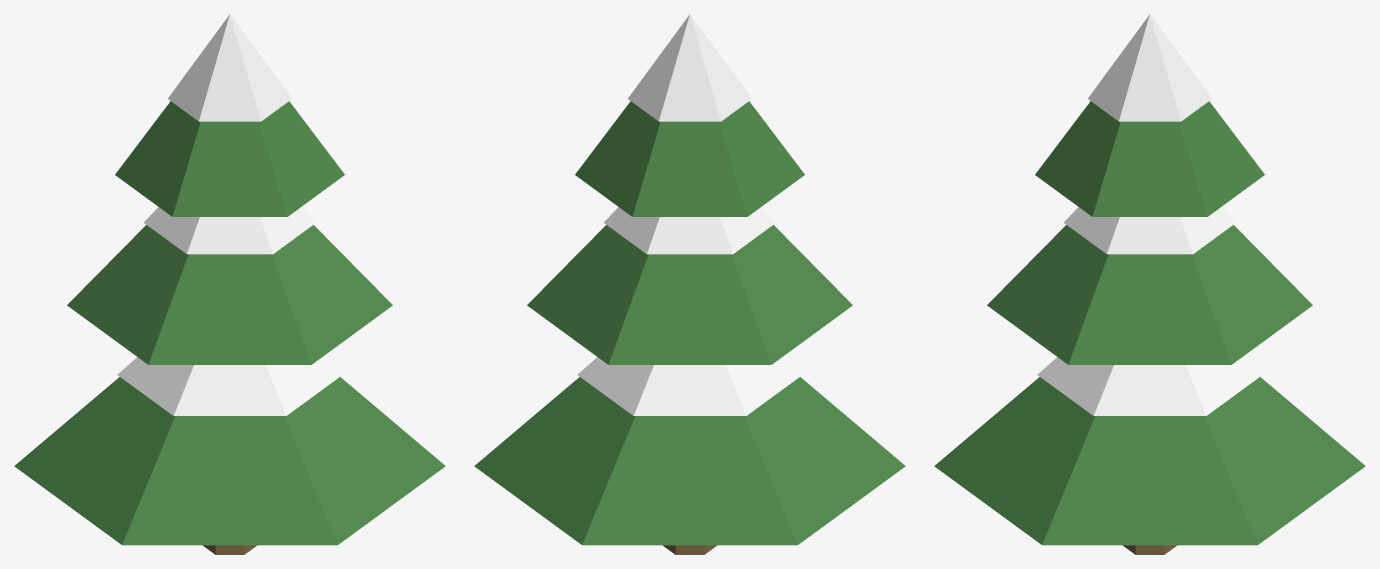
File: pine-snow.glb
3 views of the same model, side by side, from view 1: azimuth 30°, elevation 25°; view 2: azimuth 150°, elevation 25°; view 3: azimuth 270°, elevation 25° (orthographic).
Parts seen in each view (by area): view 1: ice-pine-snow; view 2: ice-pine-snow; view 3: ice-pine-snow.
Boxes of the visible parts, <box> form: ice-pine-snow: <box>14,14,445,554</box>; ice-pine-snow: <box>474,14,905,554</box>; ice-pine-snow: <box>934,14,1365,554</box>.
Size of the model in its own units: 0.7794 by 1.22 by 0.9.
